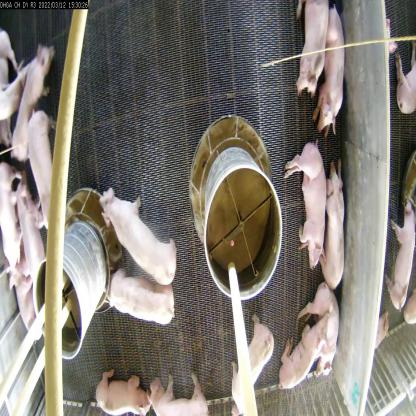Pig: (101, 196, 174, 281), (311, 0, 351, 133), (12, 44, 54, 168), (24, 105, 63, 235), (109, 254, 171, 329), (286, 142, 324, 260), (276, 320, 335, 396), (306, 283, 348, 388), (230, 327, 278, 416), (289, 0, 330, 93), (320, 174, 354, 277), (153, 365, 209, 415), (16, 193, 47, 281), (99, 369, 136, 416)
